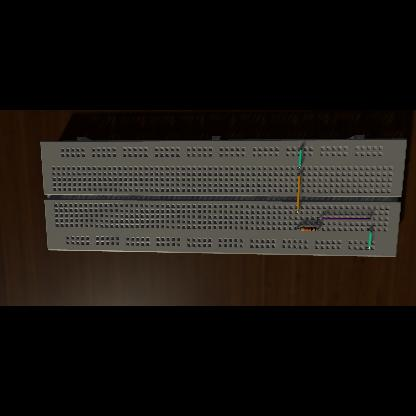breadboard: (40, 135, 408, 257)
resistor: (301, 227, 317, 231)
wire: (317, 218, 371, 221), (296, 174, 300, 212), (366, 229, 372, 249), (298, 148, 302, 170), (295, 228, 301, 230), (317, 228, 319, 230)
